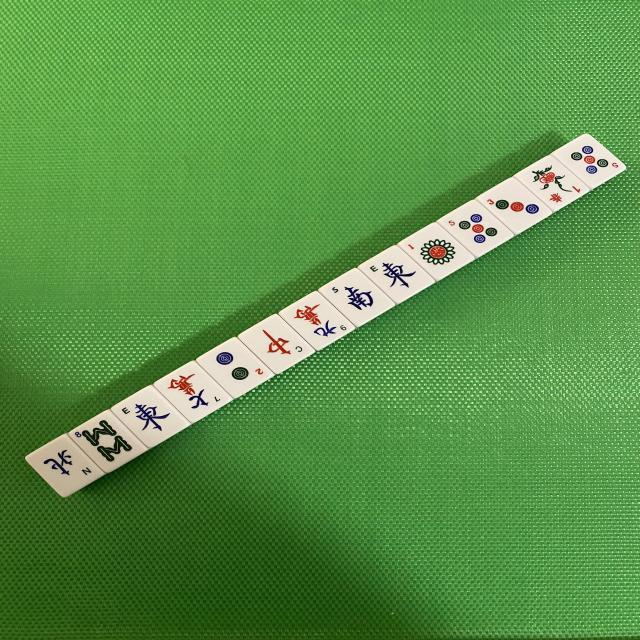bs3: (515, 150, 590, 213)
hdr: (238, 314, 315, 378)
hwe: (113, 382, 189, 452), (358, 244, 436, 308)
hwn: (28, 436, 102, 502)
hws: (318, 266, 394, 330)
sb8: (71, 408, 144, 477)
sc7: (153, 359, 230, 427)
sc9: (279, 288, 356, 354)
sd1: (398, 220, 474, 283)
sd2: (199, 335, 274, 401)
sd3: (478, 174, 552, 238)
sd5: (436, 198, 513, 262), (556, 132, 628, 192)
